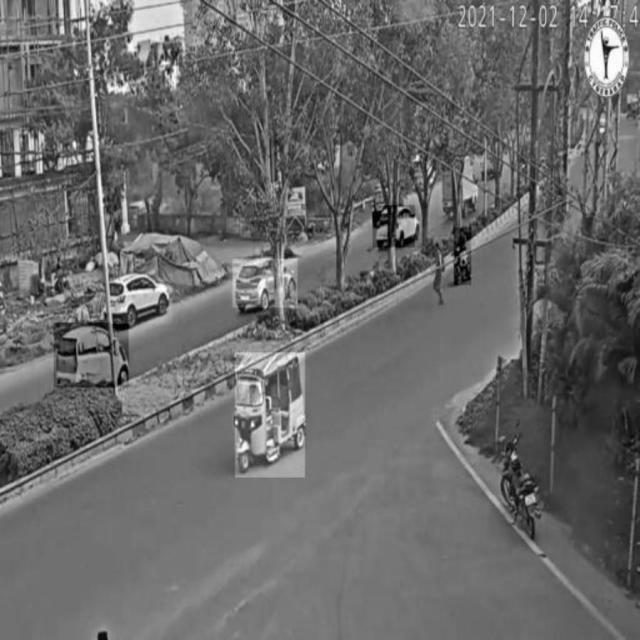person: (433, 240, 448, 308)
vehicle: (235, 353, 305, 477), (54, 323, 128, 387), (499, 442, 537, 535), (112, 267, 173, 324), (233, 259, 297, 307), (373, 206, 415, 248), (454, 228, 471, 285)
